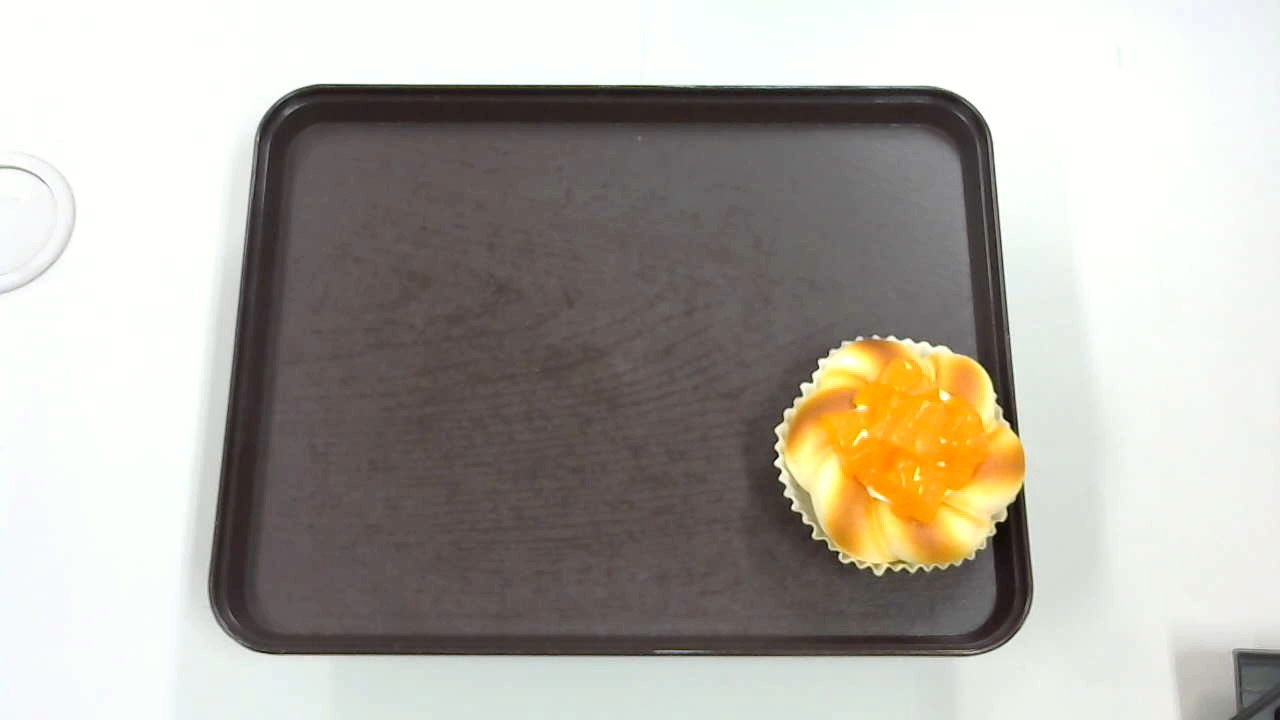mango tart: (775, 333, 1025, 577)
